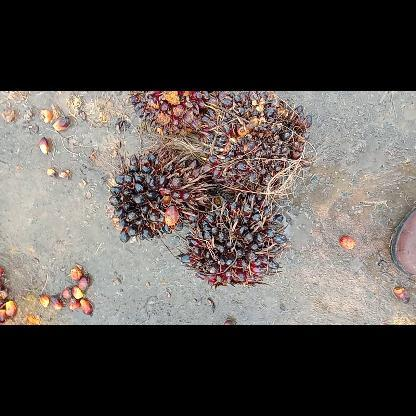TBS abnormal: (104, 143, 222, 247), (175, 186, 291, 289)
TBS masak: (198, 91, 314, 195), (126, 91, 236, 138)
